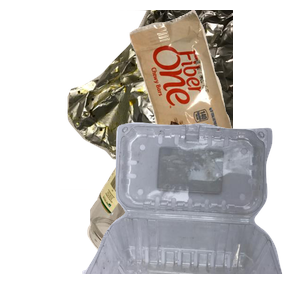glass: (85, 141, 275, 300)
metal: (60, 10, 300, 190)
plastic: (80, 120, 300, 300)
trash: (127, 10, 300, 190)
